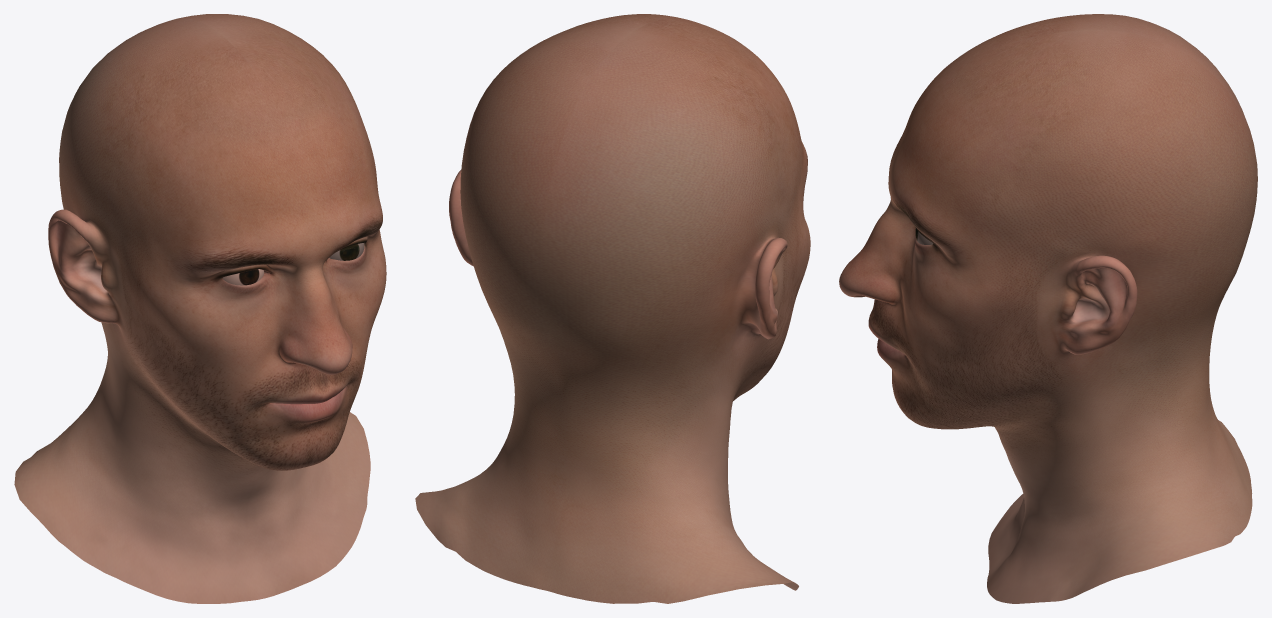
The picture shows the model from 3 angles, left to right: view 1: azimuth 30°, elevation 25°; view 2: azimuth 150°, elevation 25°; view 3: azimuth 270°, elevation 25°; orthographic projection. The views are drawn at different scales.
Visible parts, largest first — view 1: Registered head; view 2: Registered head; view 3: Registered head.
Boxes of the visible parts, box(x1,y1,x2,y2) form: Registered head: box(14, 14, 386, 603); Registered head: box(415, 14, 810, 603); Registered head: box(839, 14, 1257, 603).
Size of the model in its own units: 1.26 by 1.91 by 1.33.
3 materials, 3 textured.
